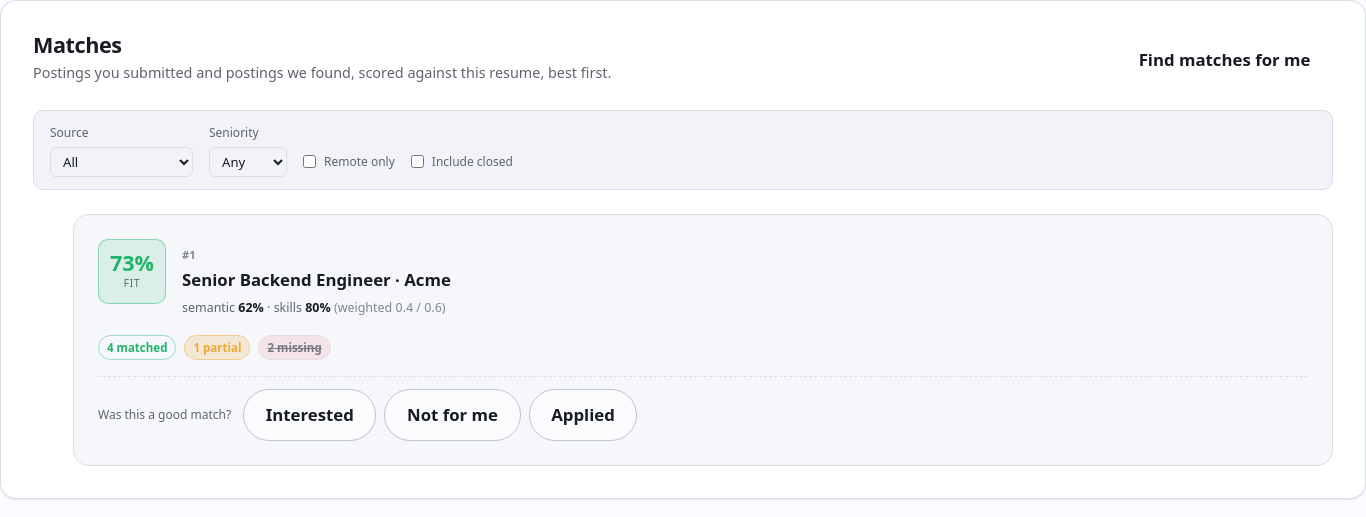
Test: feedback capture › acknowledges rather than leaving the click unanswered
The width and height of the screenshot is (1366, 517).
Click the button "Applied" at [583, 415], box [529,388,637,441]
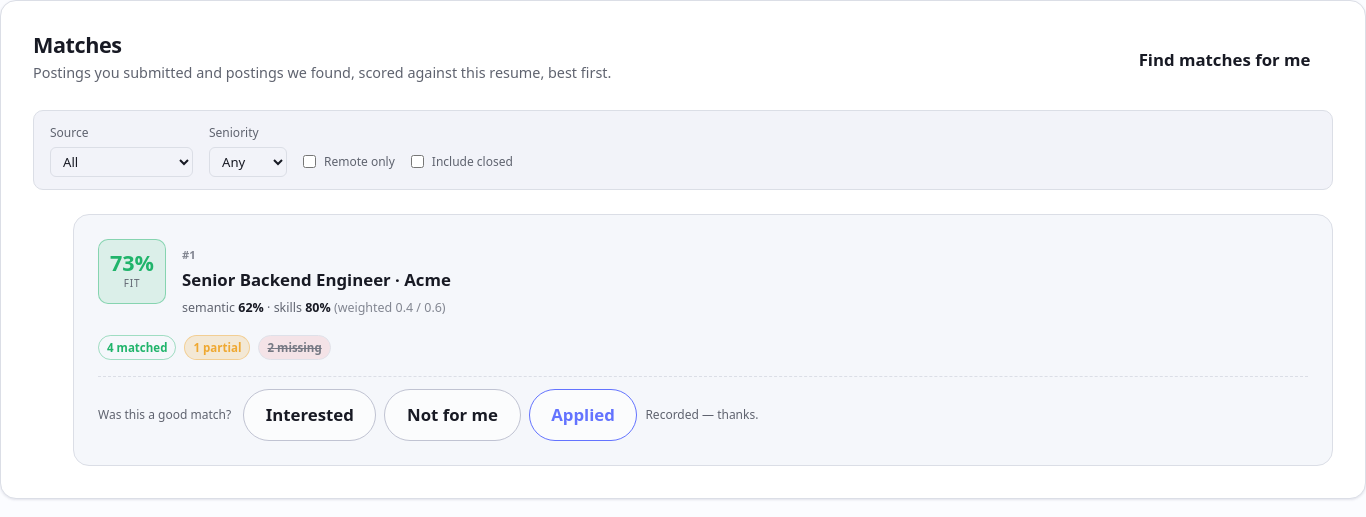
expect the message shows "Recorded": met, box [645,406,758,423]
